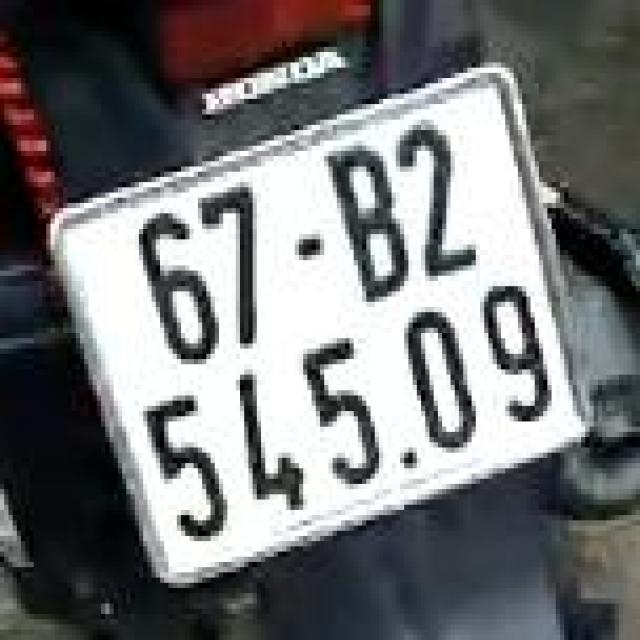0: (389, 297, 497, 459)
2: (391, 109, 497, 288)
4: (218, 355, 322, 528)
5: (131, 382, 246, 554), (292, 323, 393, 498)
6: (120, 204, 235, 381)
7: (193, 174, 297, 357)
9: (470, 269, 568, 433)
B: (318, 131, 427, 316)
